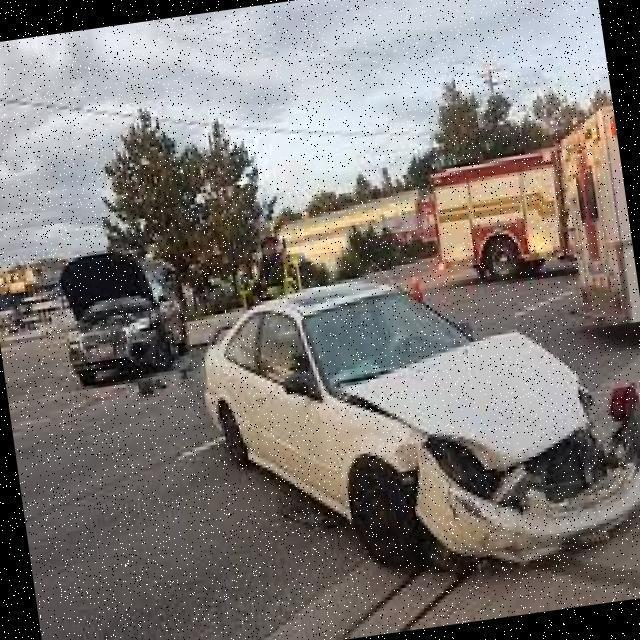accident: (312, 300, 640, 577), (46, 226, 195, 409)
